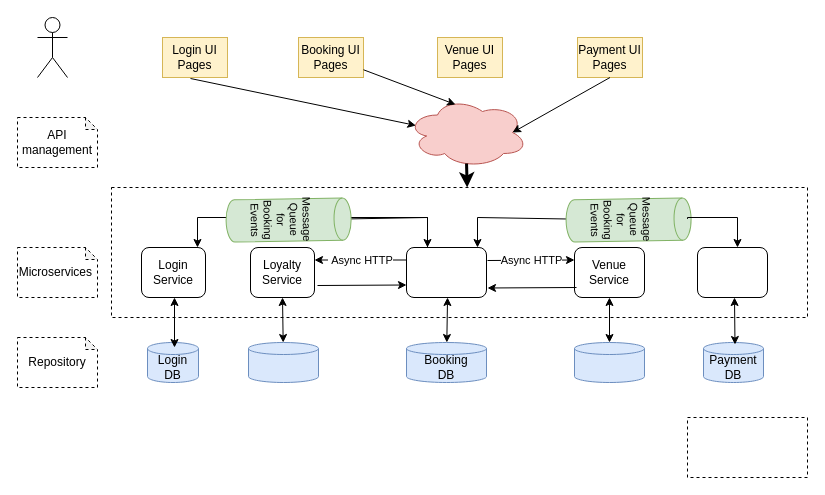
Some shapes in this 825 by 495 pixel diagram are drawn without their labels. Here are the shapes that lost their labels. From the top down, the centre of each, then its label:
At pixel 52 47: "Actor".
At pixel 467 132: "API Gateway".
At pixel 446 272: "Booking Service".
At pixel 732 272: "Payment Service".
At pixel 283 362: "Membership DB".
At pixel 609 362: "Venue DB".
At pixel 747 447: "By: George Zhao (SIMTech)".
